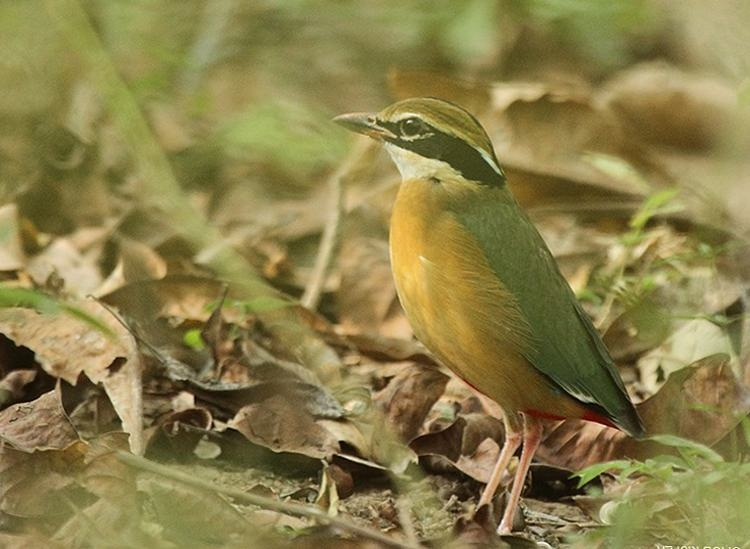pitta: (283, 84, 676, 496)
